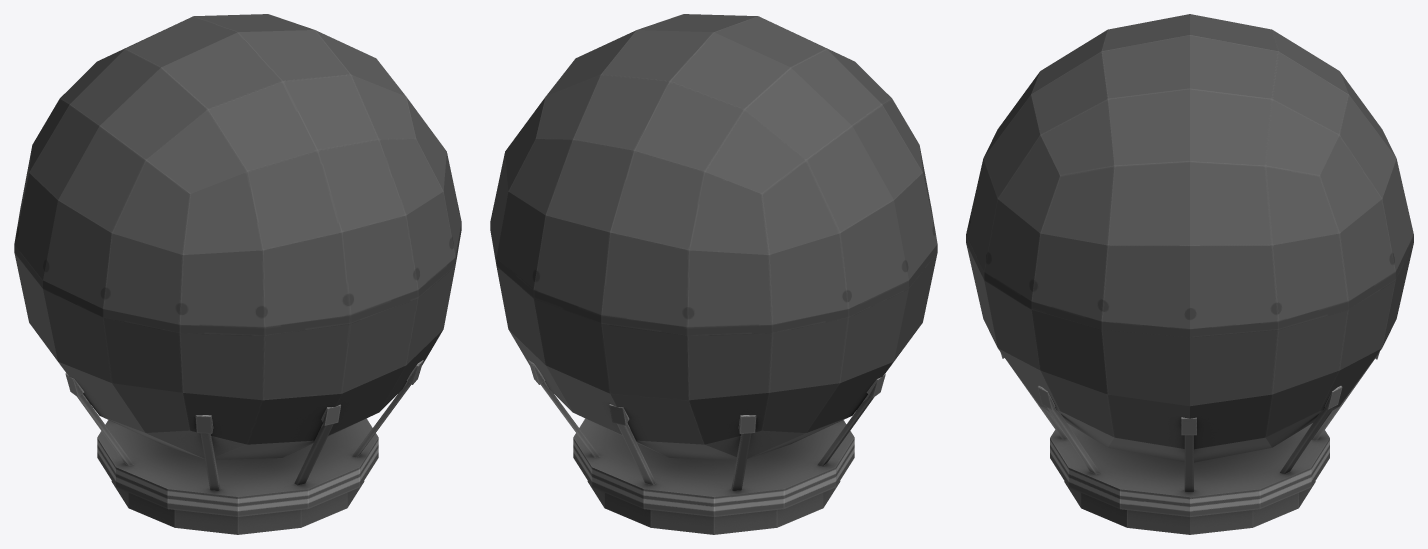
3 renders of one model, left to right at view 1: azimuth 30°, elevation 25°; view 2: azimuth 150°, elevation 25°; view 3: azimuth 270°, elevation 25°, orthographic.
Parts seen in each view (by area): view 1: ProbodobodyneStayputnik; view 2: ProbodobodyneStayputnik; view 3: ProbodobodyneStayputnik.
Boxes of the visible parts, x1,y1,x2,y2 form: ProbodobodyneStayputnik: (14,14,461,534); ProbodobodyneStayputnik: (490,14,937,534); ProbodobodyneStayputnik: (966,14,1413,534).
Size of the model in its own units: 7.94 by 8.74 by 7.94.
Materials: 1 (1 with a texture image).
